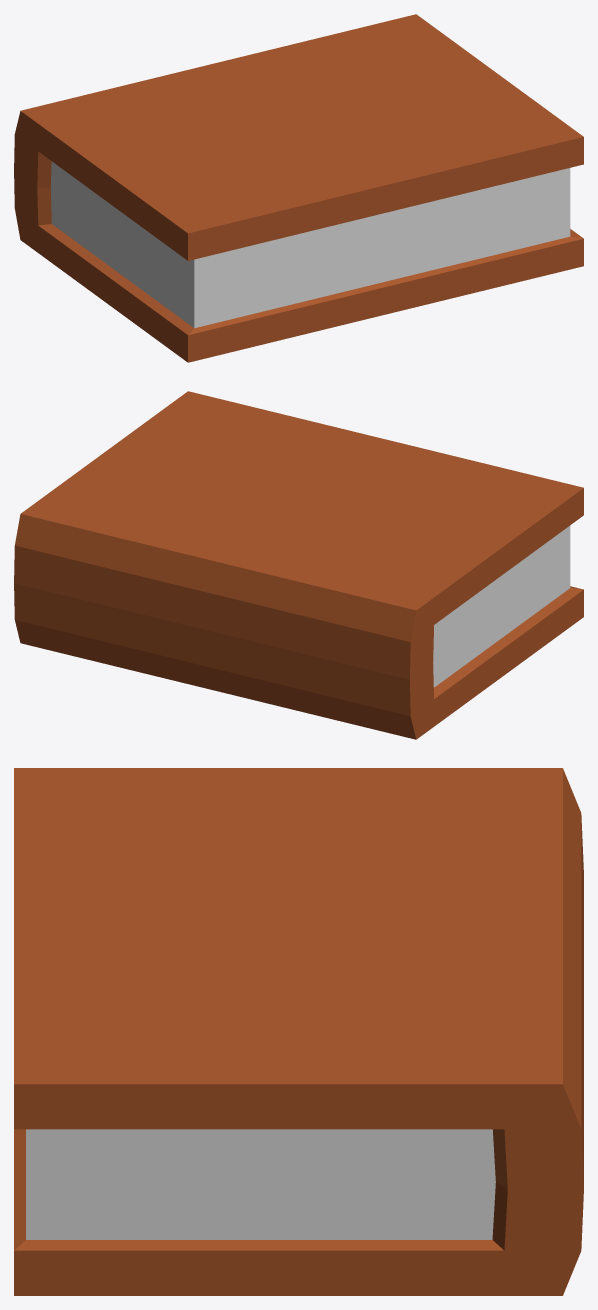
The model's file is book.fbx.
3 views of the same model, one above another, from view 1: azimuth 30°, elevation 25°; view 2: azimuth 150°, elevation 25°; view 3: azimuth 270°, elevation 25° (orthographic). The views are drawn at different scales.
Parts seen in each view (by area): view 1: book; view 2: book; view 3: book.
Part boxes in pixels (bbox=[...]): book: bbox=[14, 14, 583, 362]; book: bbox=[14, 391, 583, 739]; book: bbox=[14, 768, 583, 1295].
Size of the model in its own units: 383 by 119 by 292.
